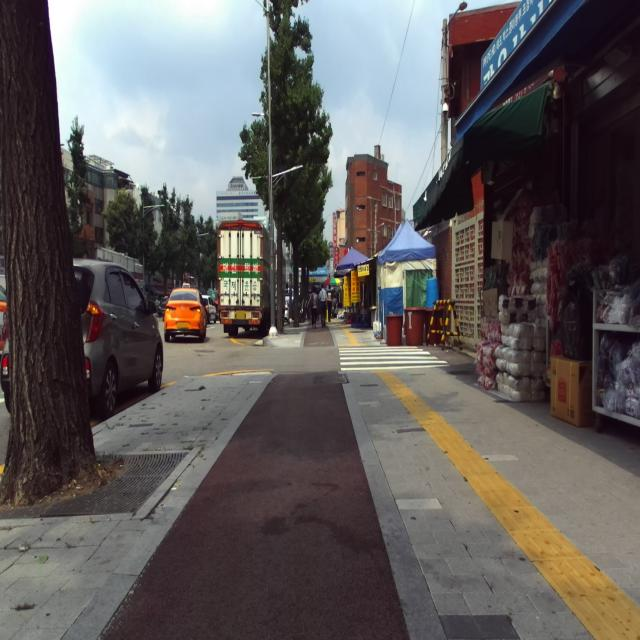횡단보도: (339, 346, 450, 371)
